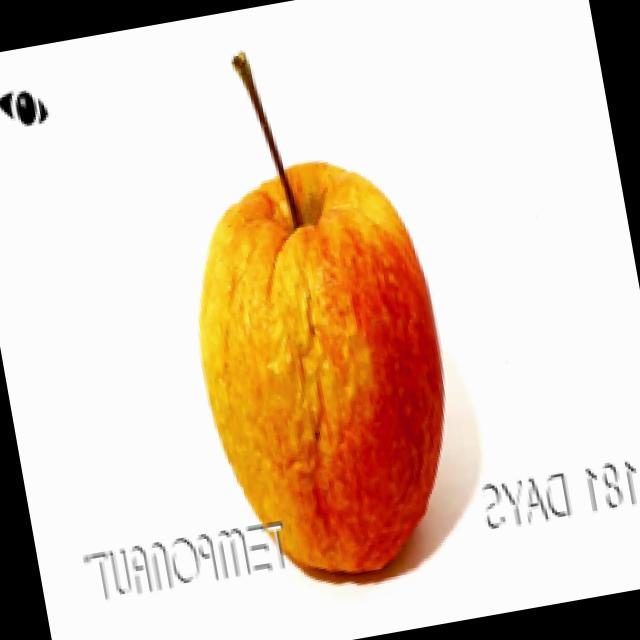Rotten_Apple: (134, 0, 481, 605)
